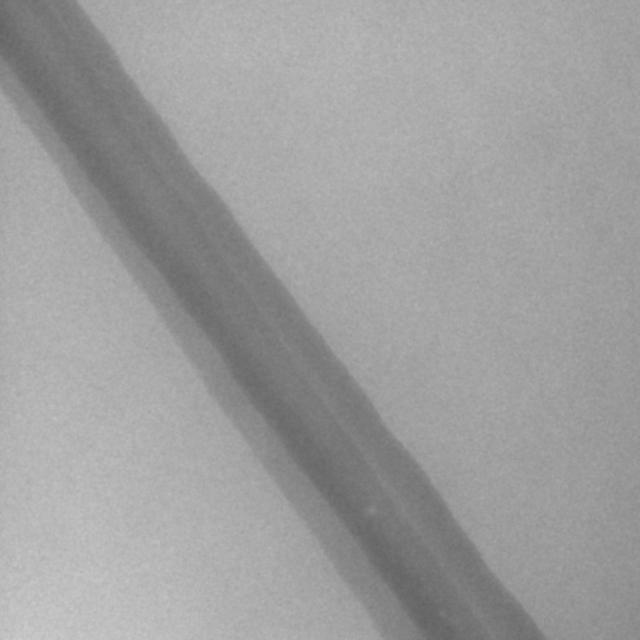air hole: (362, 506, 375, 516)
